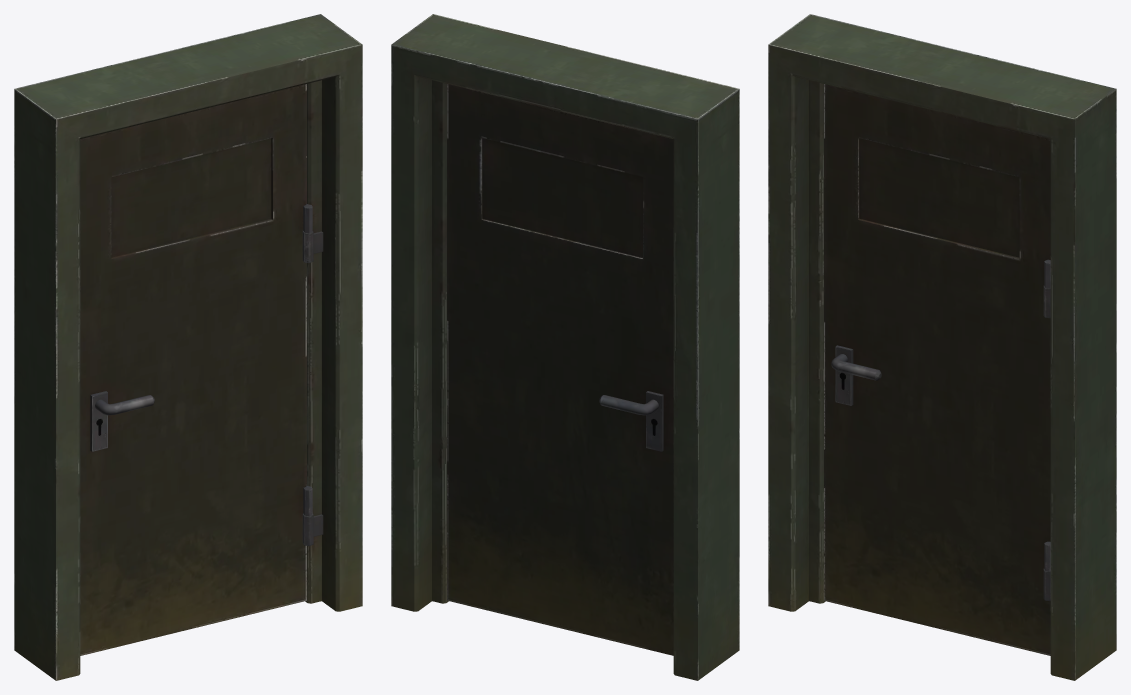
Rendered from door-opt.glb.
3 renders of one model, left to right at view 1: azimuth 30°, elevation 25°; view 2: azimuth 150°, elevation 25°; view 3: azimuth 330°, elevation 25°, orthographic.
Parts seen in each view (by area): view 1: frame_door1_0; view 2: frame_door1_0; view 3: frame_door1_0.
Boxes of the visible parts, x1,y1,x2,y2 form: frame_door1_0: (14, 14, 362, 680); frame_door1_0: (391, 14, 739, 680); frame_door1_0: (768, 14, 1116, 680).
Size of the model in its own units: 127 by 222 by 30.
1 material, 1 textured.
